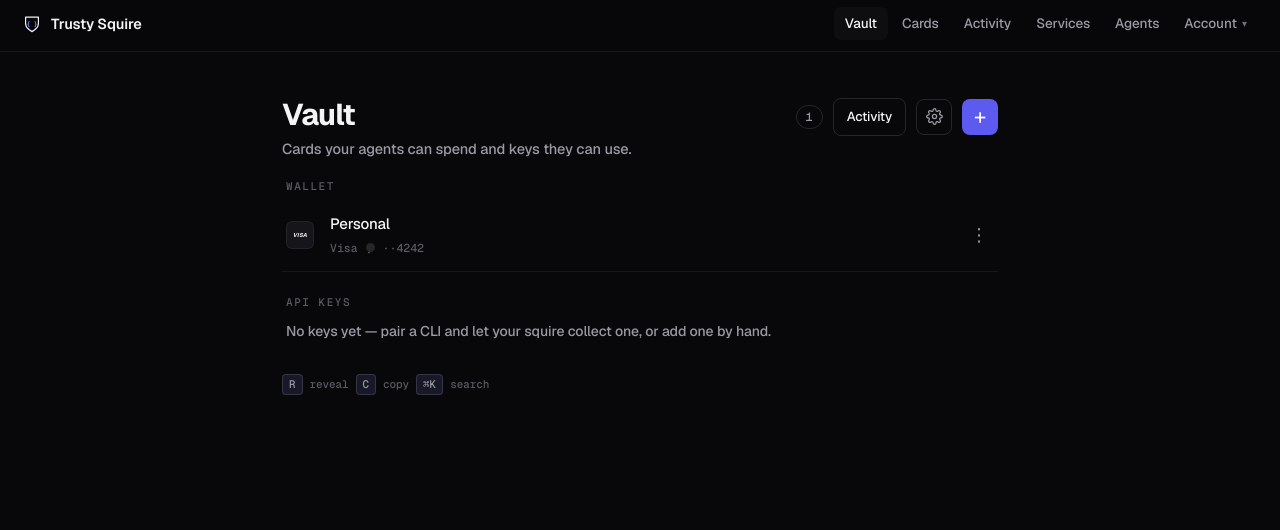
Test: card detail view › reveal runs the passkey ceremony and shows the particulars — but never the CVV
expect the text "Personal" is shown: met, box [330,214,390,233]
Click the button with aria-label "Details for Personal" at (360, 224), box [330,213,948,256]
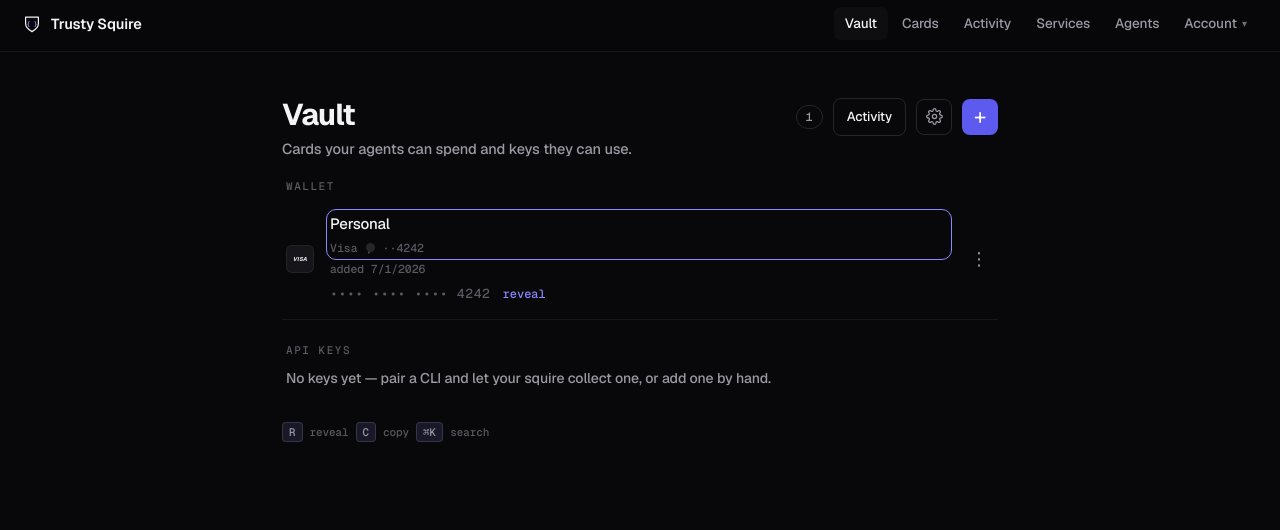
Click the button "reveal" at (524, 294), box [503,285,546,303]
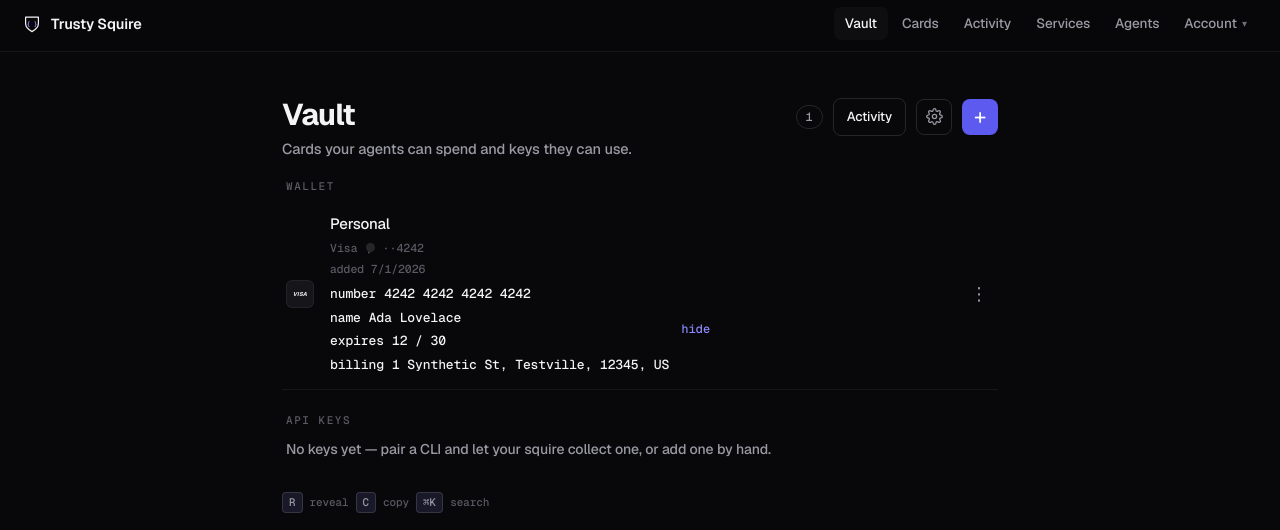
expect the text "4242 4242 4242 4242" is shown: met, box [384,284,531,304]
expect the text "Ada Lovelace" is shown: met, box [369,308,461,327]
expect the text "12 / 30" is shown: met, box [392,331,446,351]
